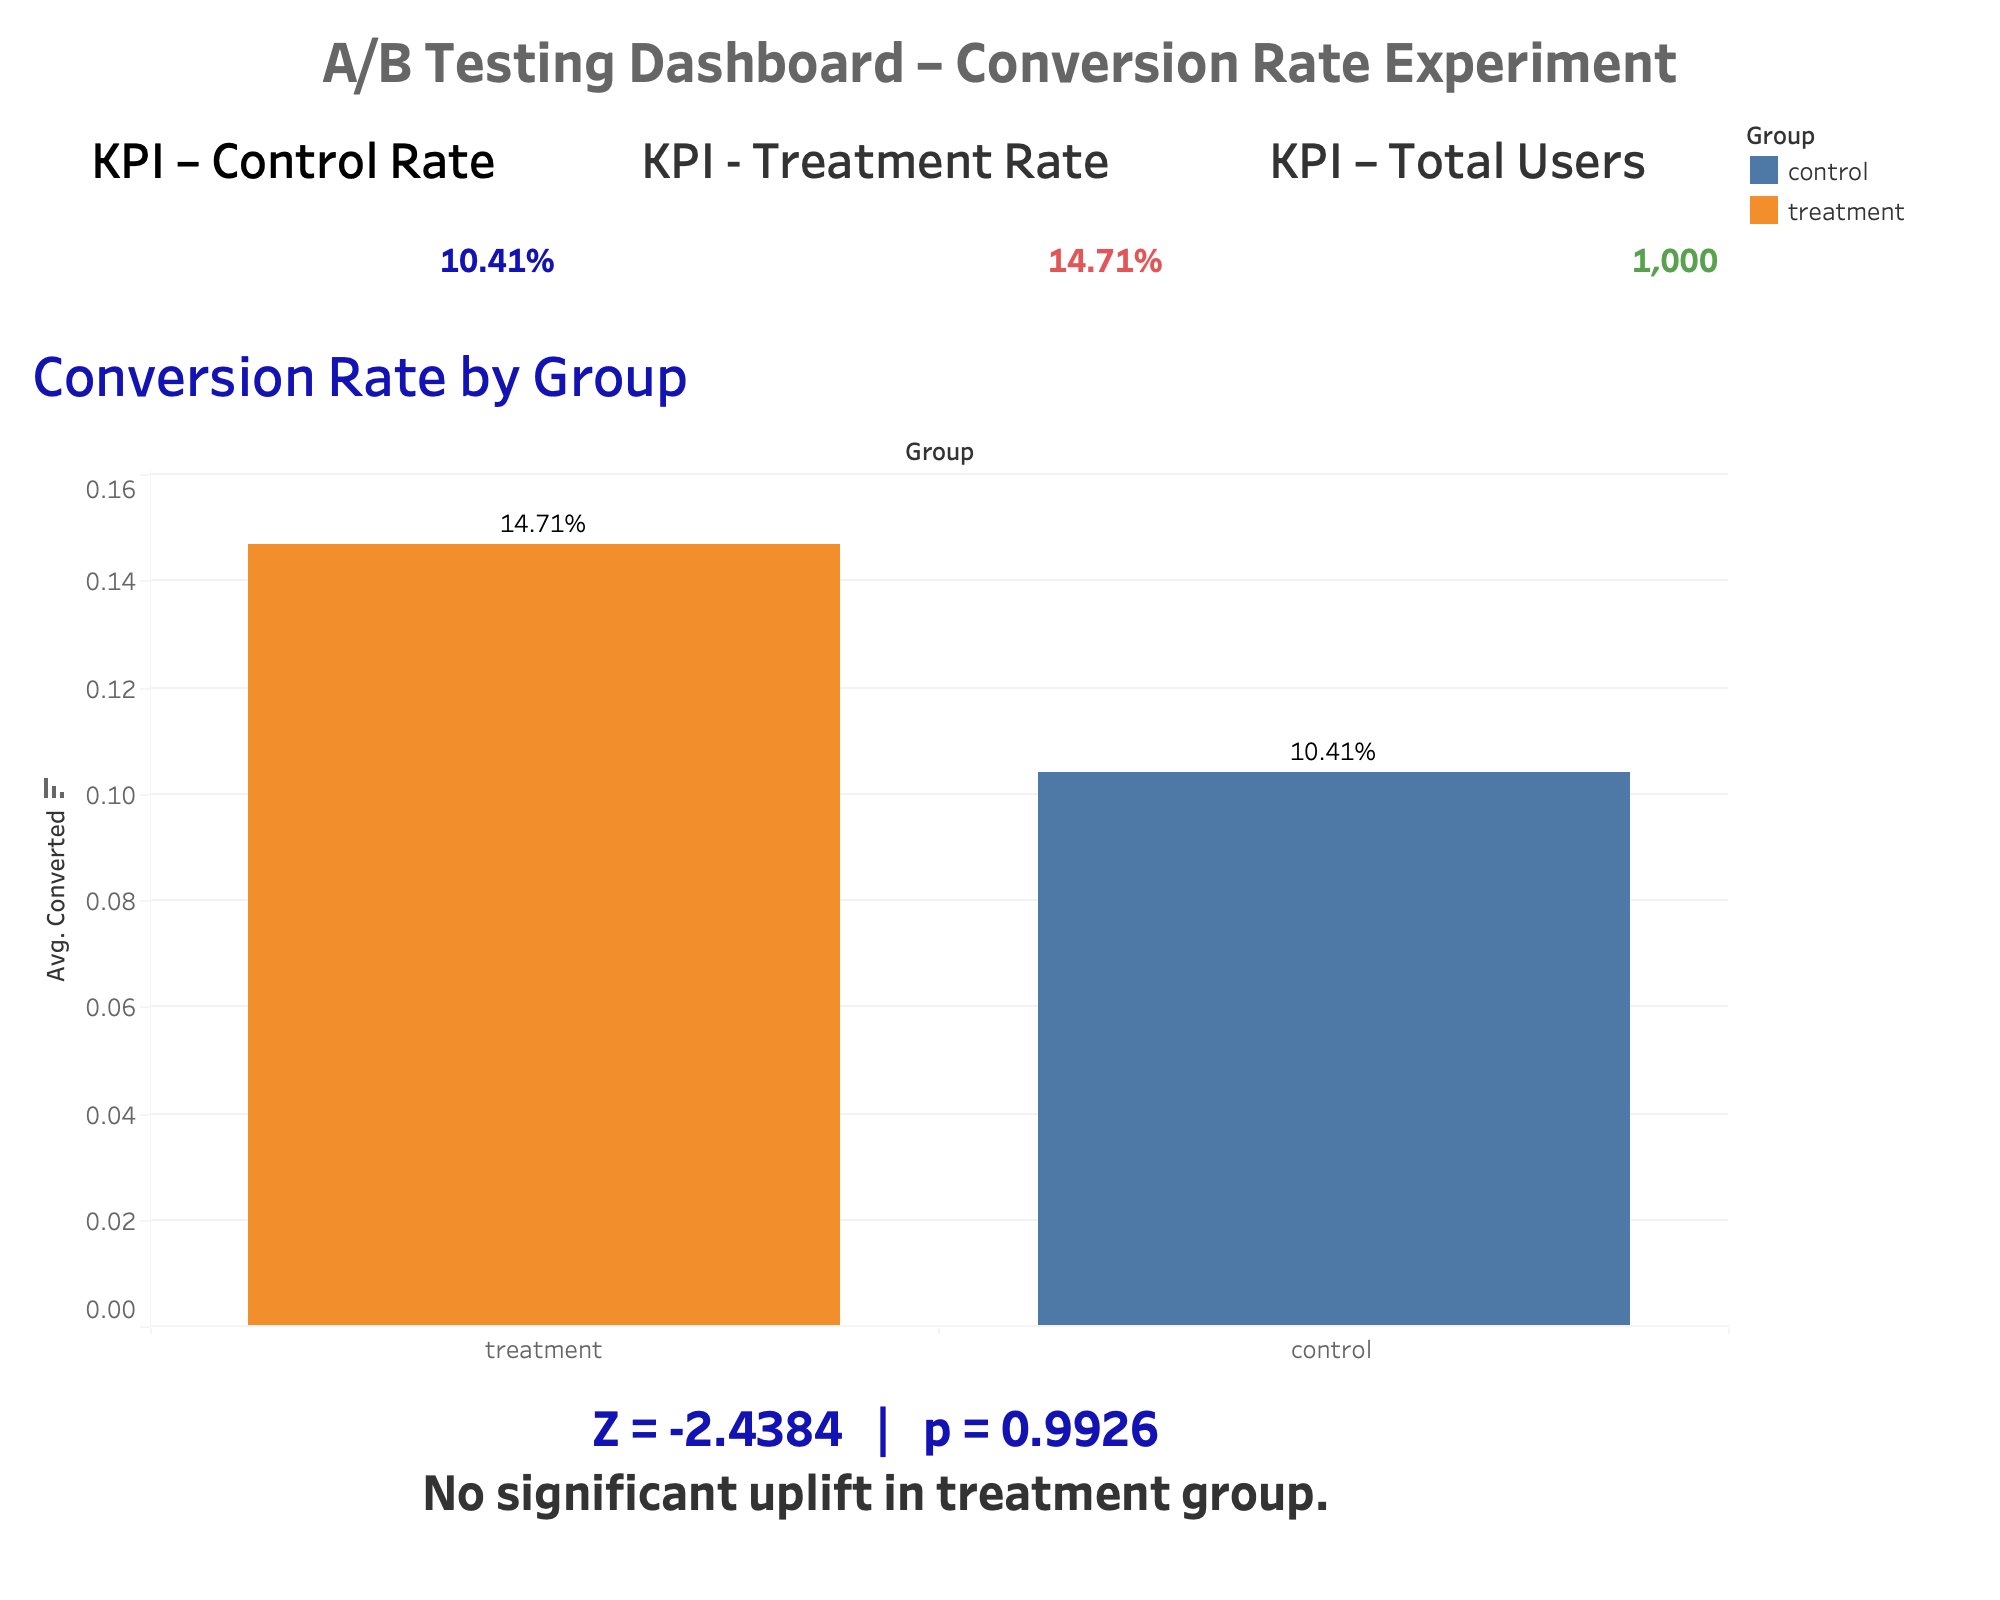

What the dashboard file says about the page in this screenshot:
{"tool":"tableau","page":{"name":"A/B Testing Dashboard – Conversion Rate Experiment","canvas":[1000,800],"ordinal":0},"visuals":[{"type":"title","box":[8,8,984,45]},{"type":"worksheet","title":"KPI – Control Rate","mark":"Automatic","box":[8,53,278.2,105.6]},{"type":"worksheet","title":"Treatment Rate","mark":"Automatic","box":[286.2,53,303.5,105.6]},{"type":"worksheet","title":"KPI – Total Users","mark":"Automatic","box":[589.8,53,278.2,105.6]},{"type":"legend","title":"Conversion Rate by Group","param":"[federated.060peoq0195m9u1556rip1bf7uao].[none:Group:nk]","box":[868,53,124,66]},{"type":"worksheet","title":"Conversion Rate by Group","mark":"Automatic","rows":["Converted"],"cols":["Group"],"box":[8,158.6,860,528.8]},{"type":"worksheet","title":"Text Sheet","mark":"Automatic","box":[8,687.4,860,104.6]}]}

Visuals, with their boxes in screenshot pixels (x1, y1, x2, y2), scaled from the page's 1000x800 canvas onto the 2000x1600 screenshot:
title: pyautogui.locateOnScreen(16, 16, 1984, 106)
"KPI – Control Rate" worksheet: pyautogui.locateOnScreen(16, 106, 572, 317)
"Treatment Rate" worksheet: pyautogui.locateOnScreen(572, 106, 1179, 317)
"KPI – Total Users" worksheet: pyautogui.locateOnScreen(1180, 106, 1736, 317)
"Conversion Rate by Group" legend: pyautogui.locateOnScreen(1736, 106, 1984, 238)
"Conversion Rate by Group" worksheet: pyautogui.locateOnScreen(16, 317, 1736, 1375)
"Text Sheet" worksheet: pyautogui.locateOnScreen(16, 1375, 1736, 1584)
